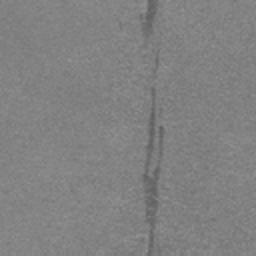Red iron sheet: (141, 86, 165, 256), (139, 0, 159, 41), (152, 51, 159, 79)
